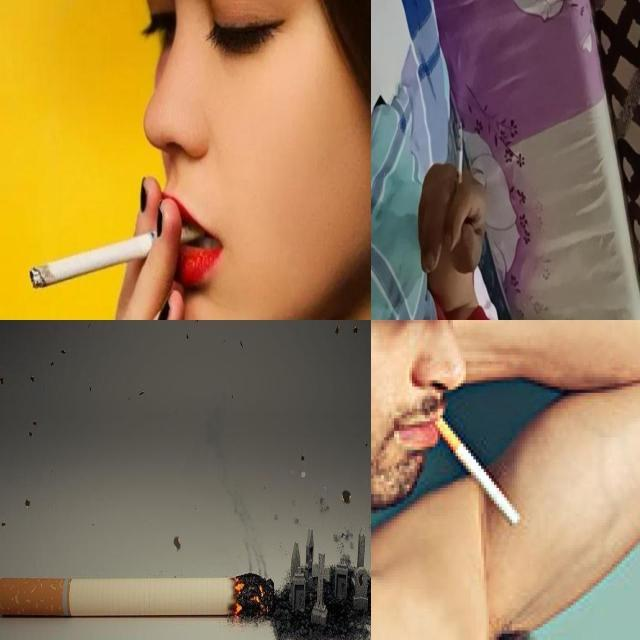smoking: (29, 223, 207, 289), (0, 577, 276, 616), (435, 412, 522, 522), (456, 120, 463, 200)
